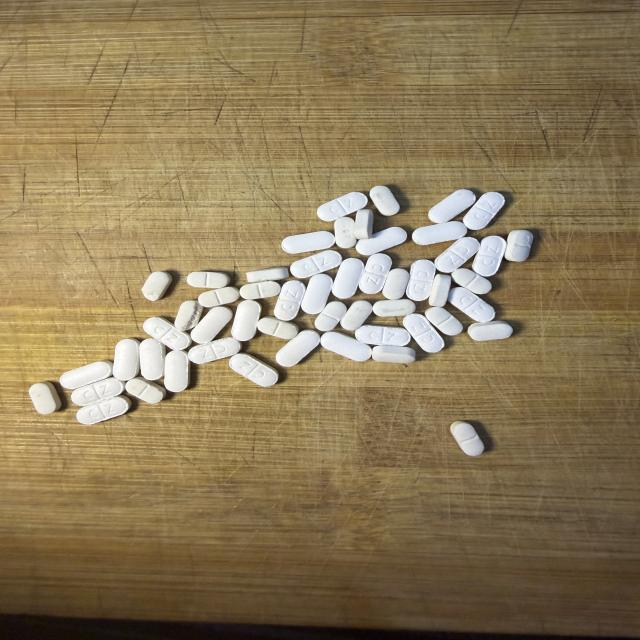pill: (449, 287, 495, 322), (463, 192, 505, 230), (143, 317, 191, 350), (435, 237, 479, 273), (229, 354, 278, 386), (77, 396, 131, 425), (403, 314, 444, 352), (276, 330, 319, 366), (71, 377, 124, 406), (429, 190, 475, 223), (191, 307, 232, 343), (290, 250, 342, 278), (60, 361, 112, 389), (321, 332, 371, 361), (317, 192, 367, 221), (356, 227, 406, 255), (188, 338, 241, 364), (472, 236, 506, 276), (412, 221, 467, 245), (332, 258, 364, 299), (359, 254, 391, 294), (301, 274, 332, 314), (282, 231, 335, 254), (274, 281, 305, 320), (232, 300, 261, 341), (112, 339, 140, 381), (451, 421, 484, 456), (407, 260, 435, 301), (356, 325, 410, 346), (164, 351, 190, 392), (140, 338, 165, 380), (126, 377, 166, 403), (451, 268, 491, 294), (425, 307, 462, 335), (29, 382, 61, 414), (315, 301, 346, 331), (174, 300, 203, 331), (341, 301, 372, 330), (468, 321, 512, 341), (258, 317, 298, 339), (370, 186, 399, 216), (142, 272, 172, 301), (505, 230, 533, 261), (198, 287, 239, 307), (382, 269, 409, 299), (373, 346, 415, 364), (240, 281, 280, 299), (373, 299, 415, 316), (429, 274, 451, 306), (187, 272, 230, 288), (335, 217, 357, 248), (247, 267, 288, 283), (355, 210, 373, 239)
